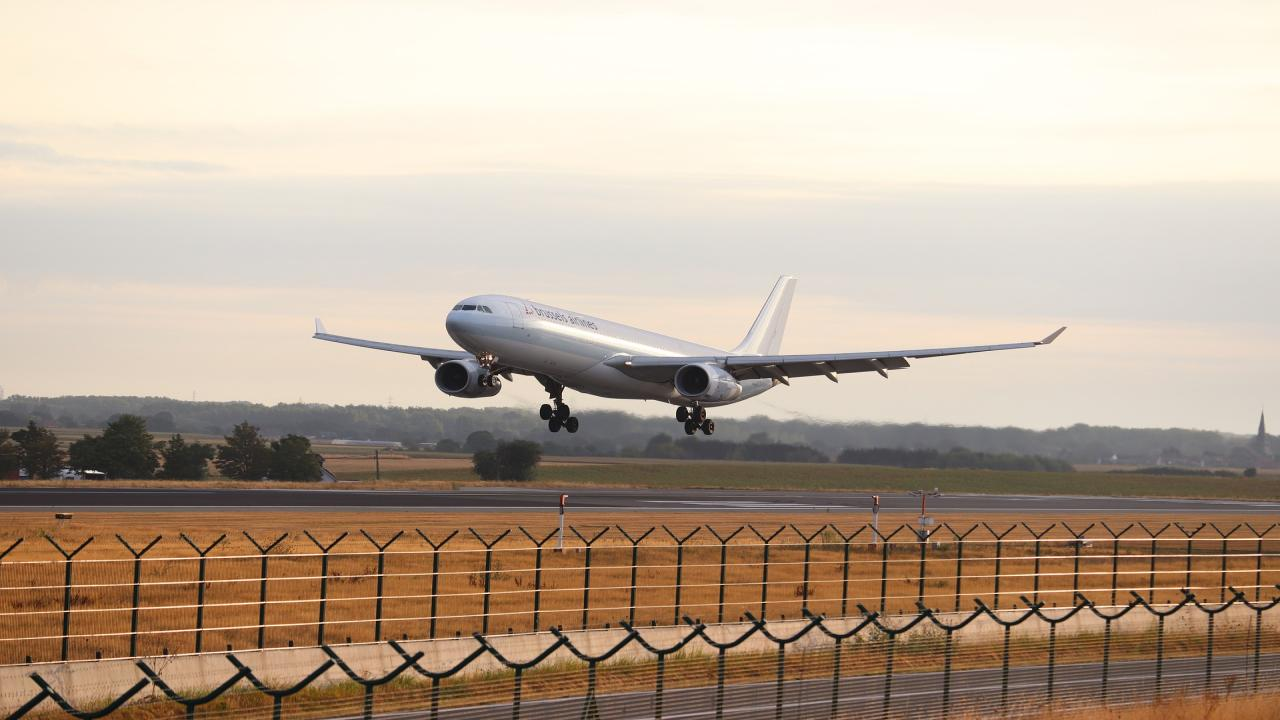Airplane: (298, 254, 1087, 454)
